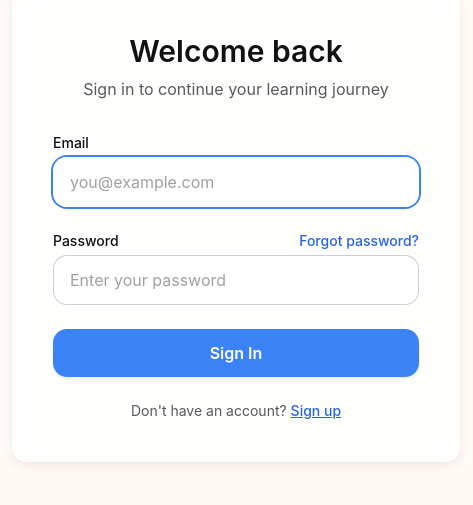
Test: LoginPage › form validation › shows error when password is empty on blur
Click the password field labelled "Password" at (236, 280), box [53, 255, 419, 305]
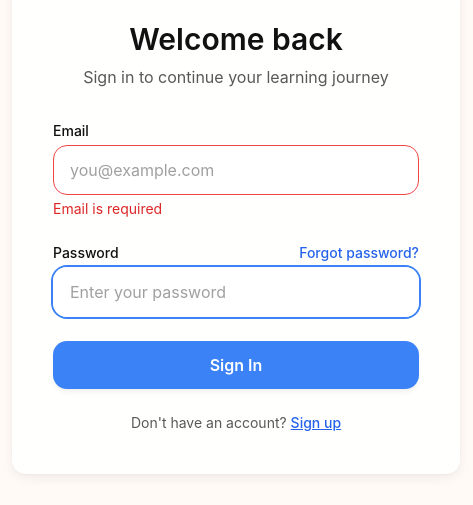
Press Tab
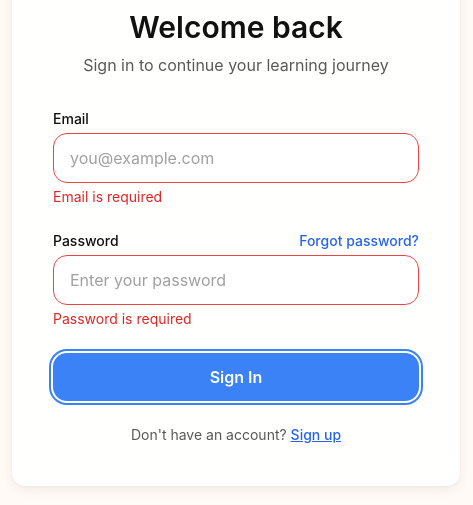
Expected: the text "Password is required" is shown, [53, 310, 192, 327]
